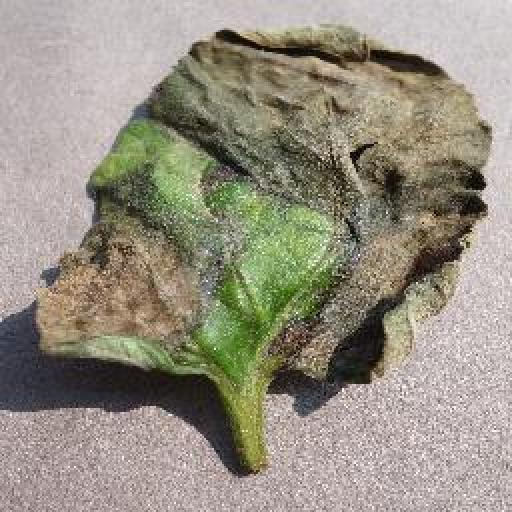disease_tomato: (32, 28, 495, 387)
